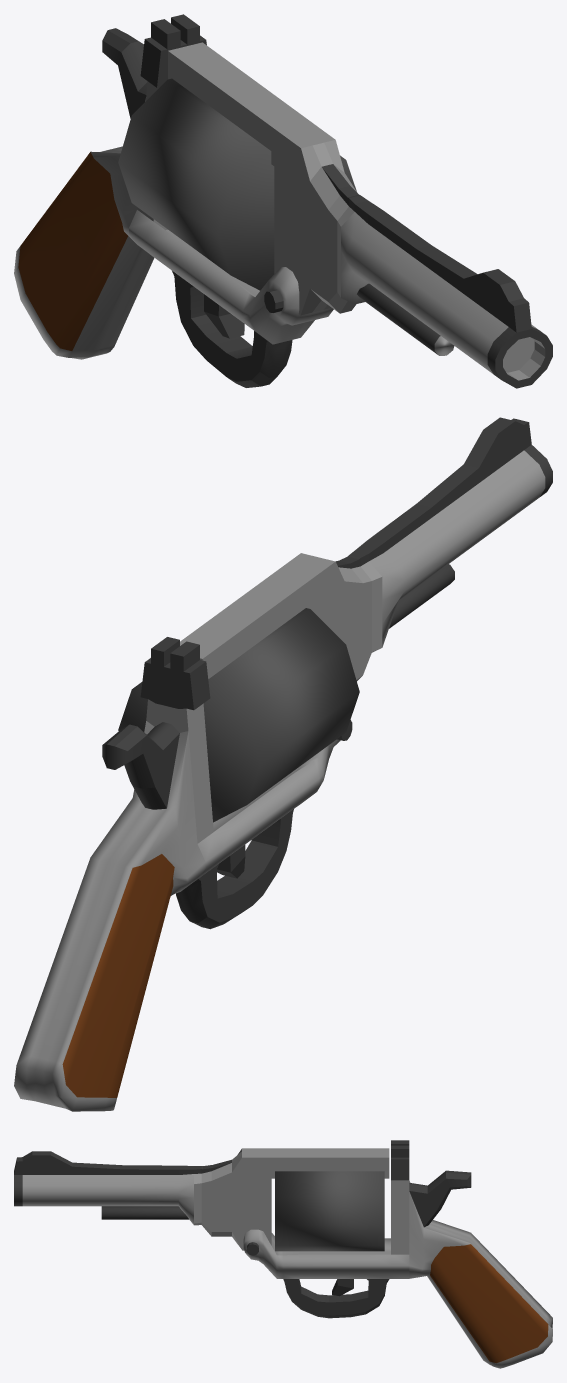
Rendered from gun.fbx.
3 views of the same model, one above another, from view 1: azimuth 30°, elevation 25°; view 2: azimuth 150°, elevation 25°; view 3: azimuth 270°, elevation 25° (orthographic). The views are drawn at different scales.
Visible parts, largest first — view 1: Gun; view 2: Gun; view 3: Gun.
Part boxes in pixels (box(x1,y1,x2,y2)): Gun: box(14, 14, 552, 388); Gun: box(14, 417, 552, 1111); Gun: box(14, 1140, 552, 1368).
Bounding box in the file's own units: 1.08 × 2.83 × 6.38.
